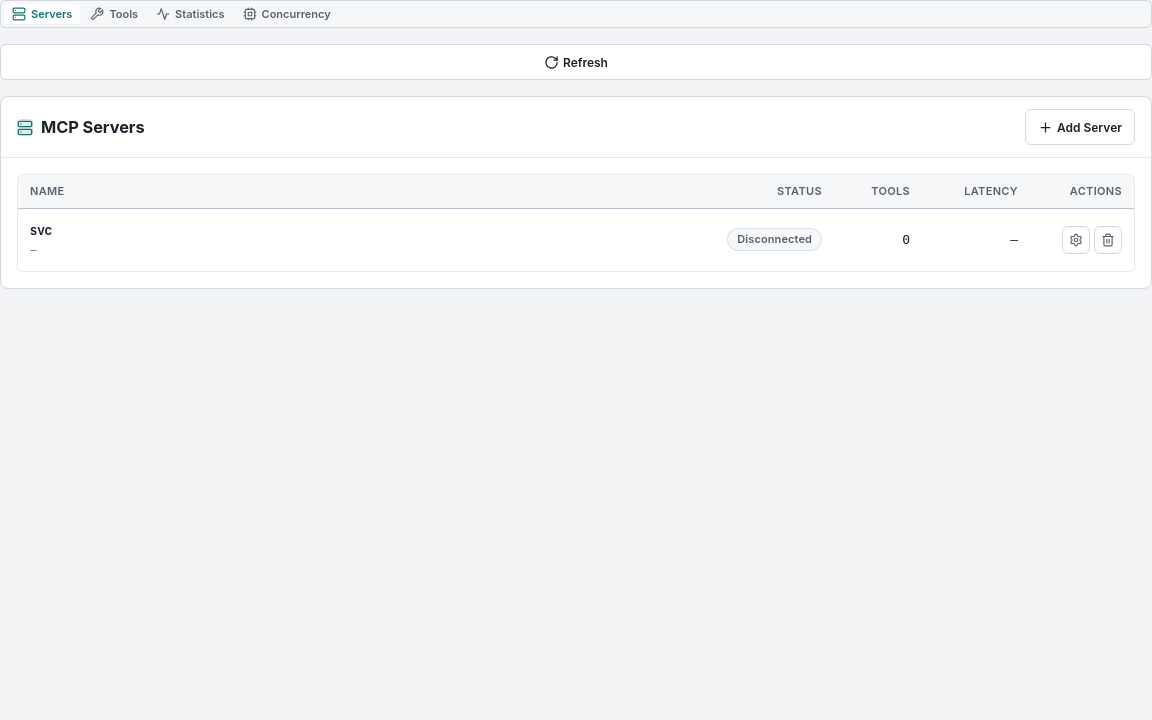
Test case: McpManager.vue › prefills enablement toggles from the server detail
Click the button named "Edit" at (1076, 240), box [1062,226,1090,254]
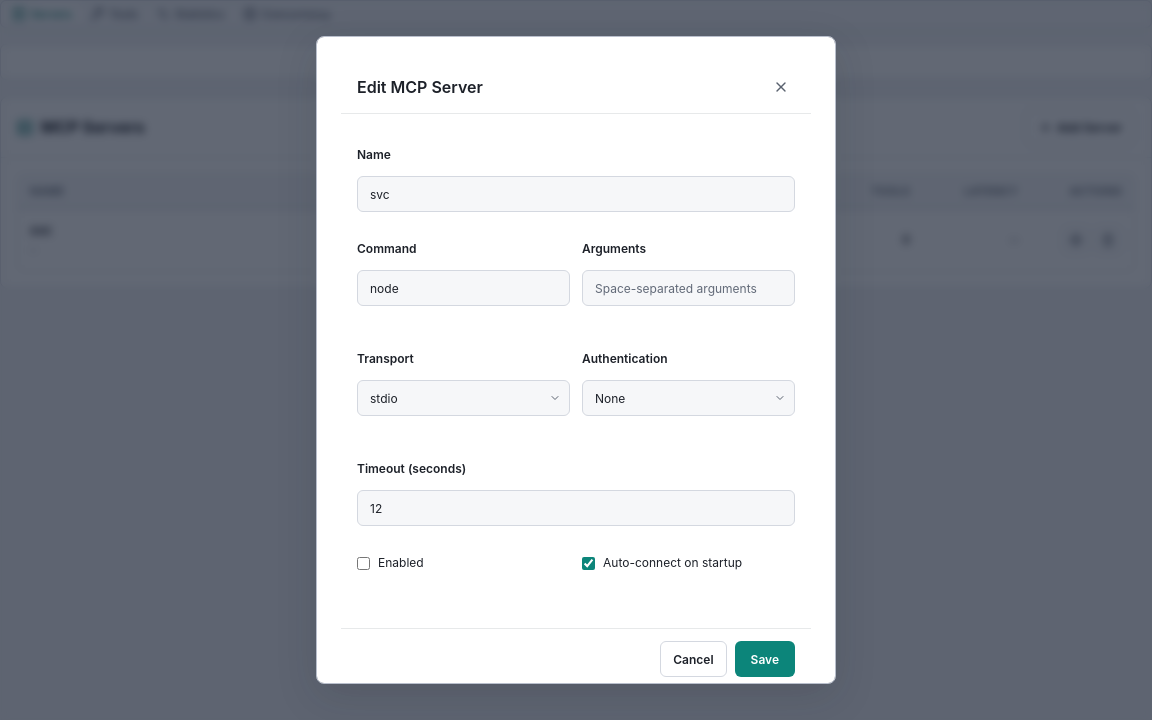
Result: the checkbox labelled "Enabled" is not checked at [357,556,370,570]
Result: the checkbox labelled "Auto-connect on startup" is checked at [582,556,595,570]
